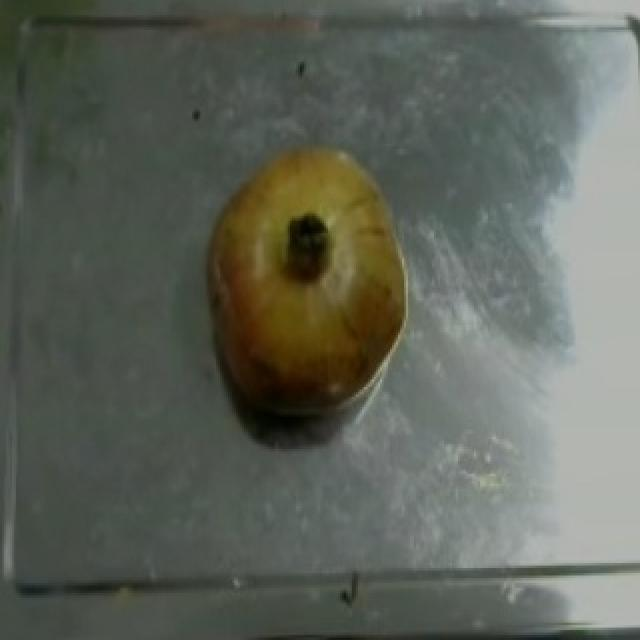fruit: (176, 114, 434, 390)
